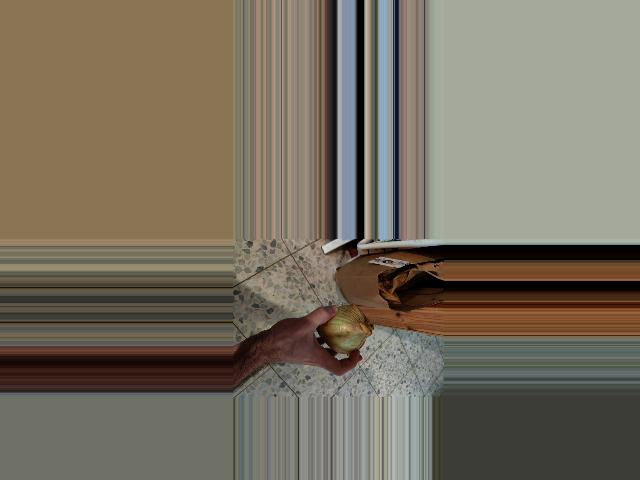onion: (311, 302, 375, 358)
